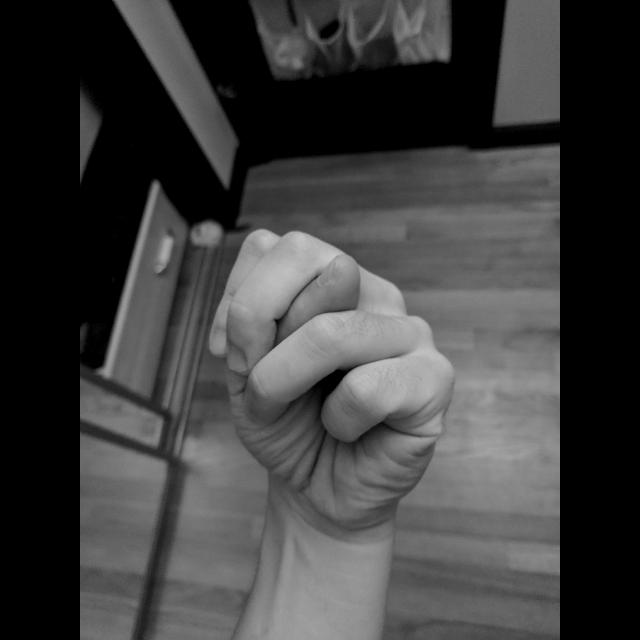N: (203, 224, 461, 532)
